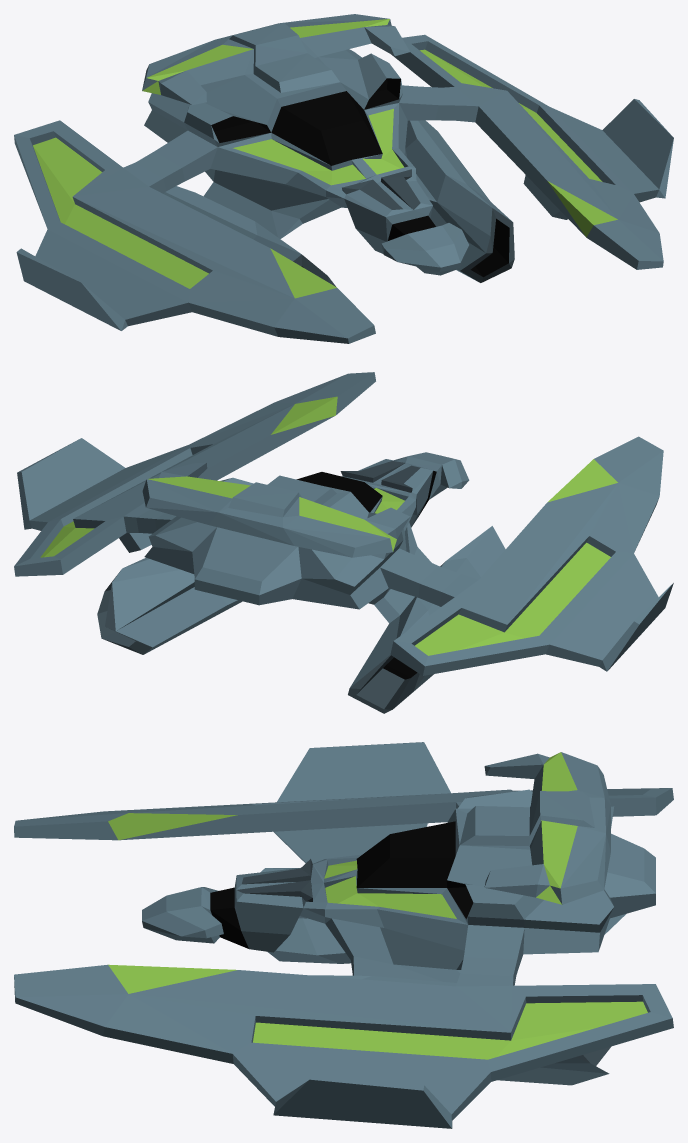
Rendered from spaceship2.obj.
The picture shows the model from 3 angles, top to bottom: view 1: azimuth 30°, elevation 25°; view 2: azimuth 150°, elevation 25°; view 3: azimuth 270°, elevation 25°; orthographic projection. The views are drawn at different scales.
Parts seen in each view (by area): view 1: Cube; view 2: Cube; view 3: Cube.
Boxes of the visible parts, x1,y1,x2,y2 form: Cube: [14, 14, 673, 343]; Cube: [14, 372, 673, 713]; Cube: [14, 742, 673, 1128].
Bounding box in the file's own units: 17.31 × 4.98 × 13.85.
